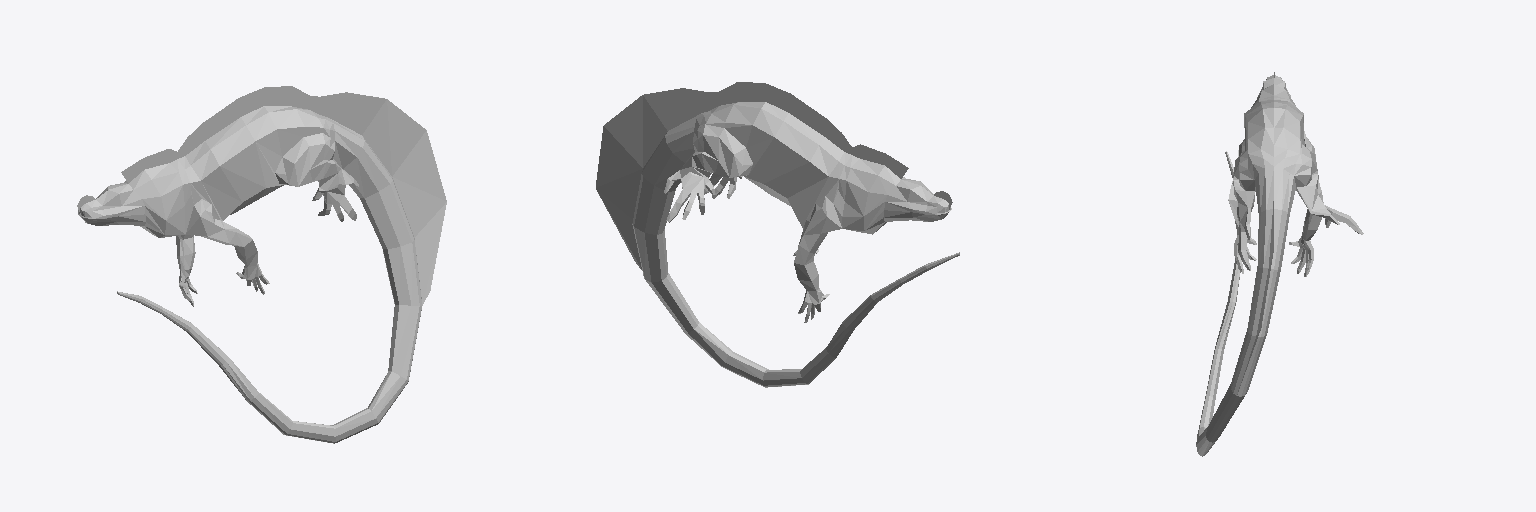
The model's file is Heres ur bJ.obj.
3 views of the same model, side by side, from view 1: azimuth 30°, elevation 25°; view 2: azimuth 150°, elevation 25°; view 3: azimuth 270°, elevation 25° (orthographic).
Parts seen in each view (by area): view 1: Plane; view 2: Plane; view 3: Plane.
Boxes of the visible parts, x1=… form: Plane: x1=77, y1=86, x2=446, y2=443; Plane: x1=596, y1=82, x2=959, y2=387; Plane: x1=1196, y1=72, x2=1363, y2=456.
Bounding box in the file's own units: 22.11 × 19.68 × 8.83.